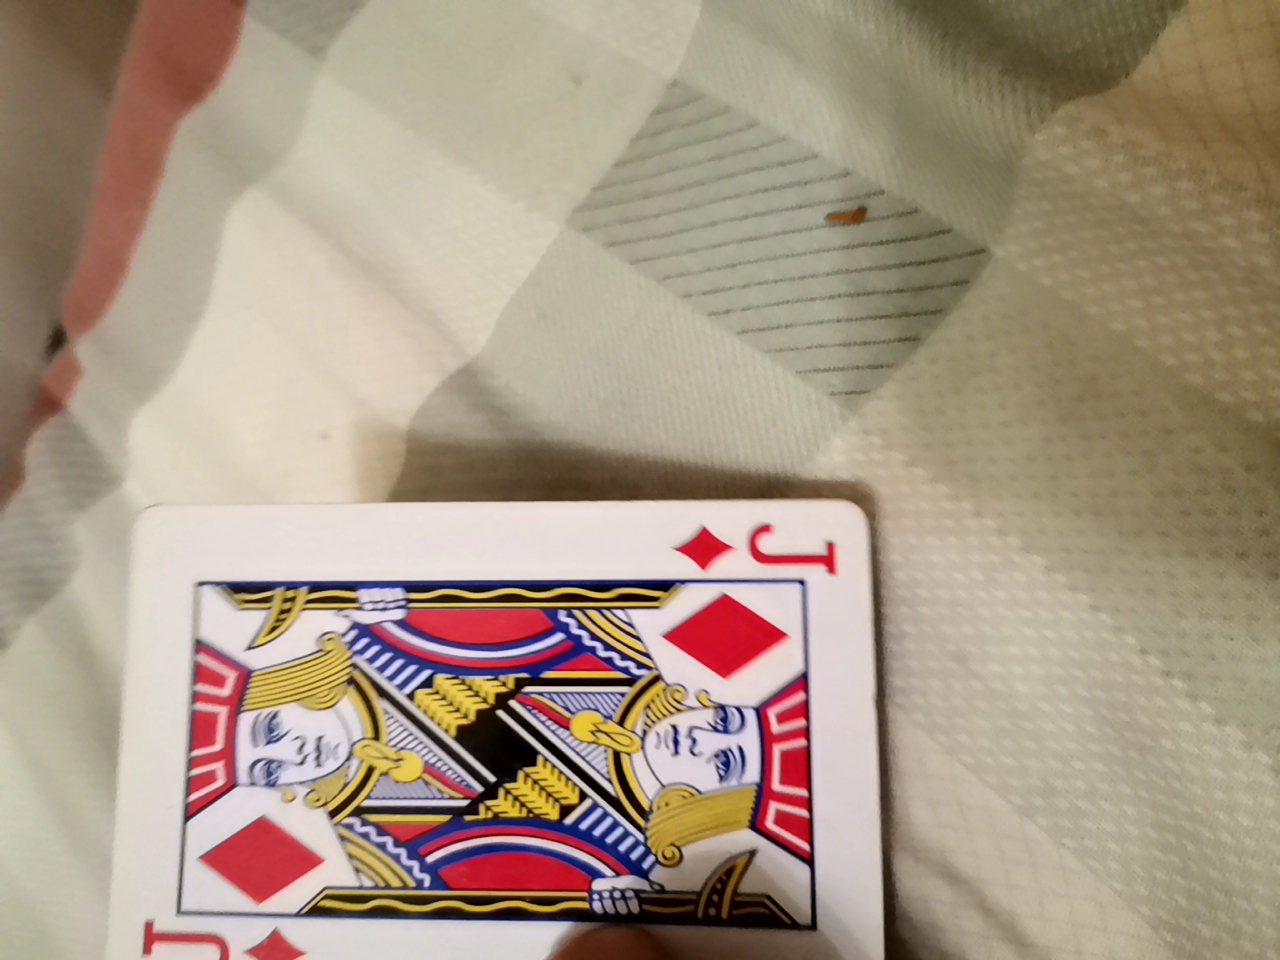fk j: (106, 495, 905, 951)
